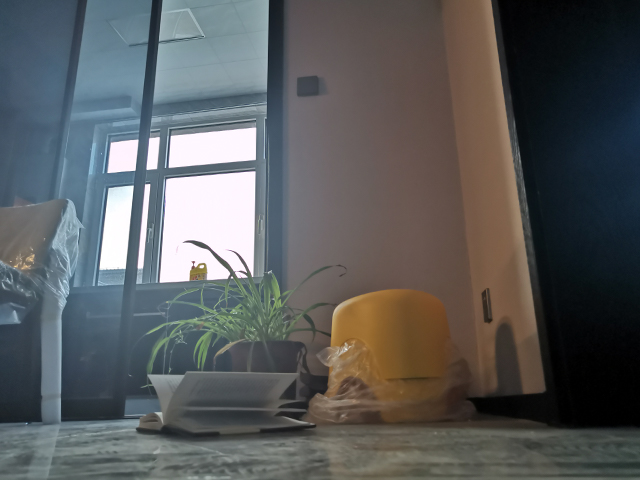book: (132, 370, 319, 440)
stool: (319, 287, 456, 425), (1, 195, 71, 426)
